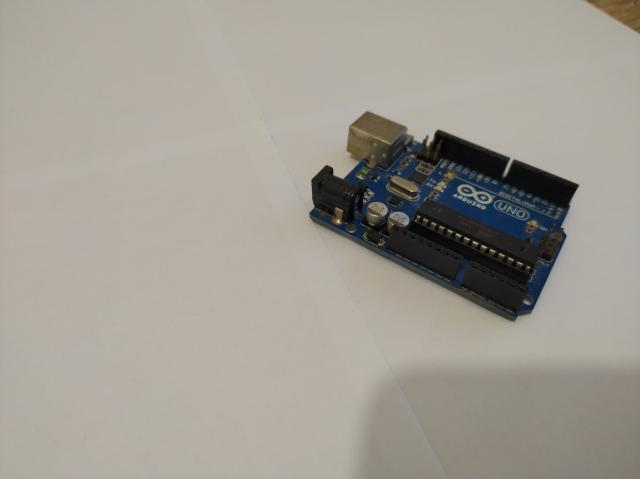arduino: (309, 112, 579, 316)
